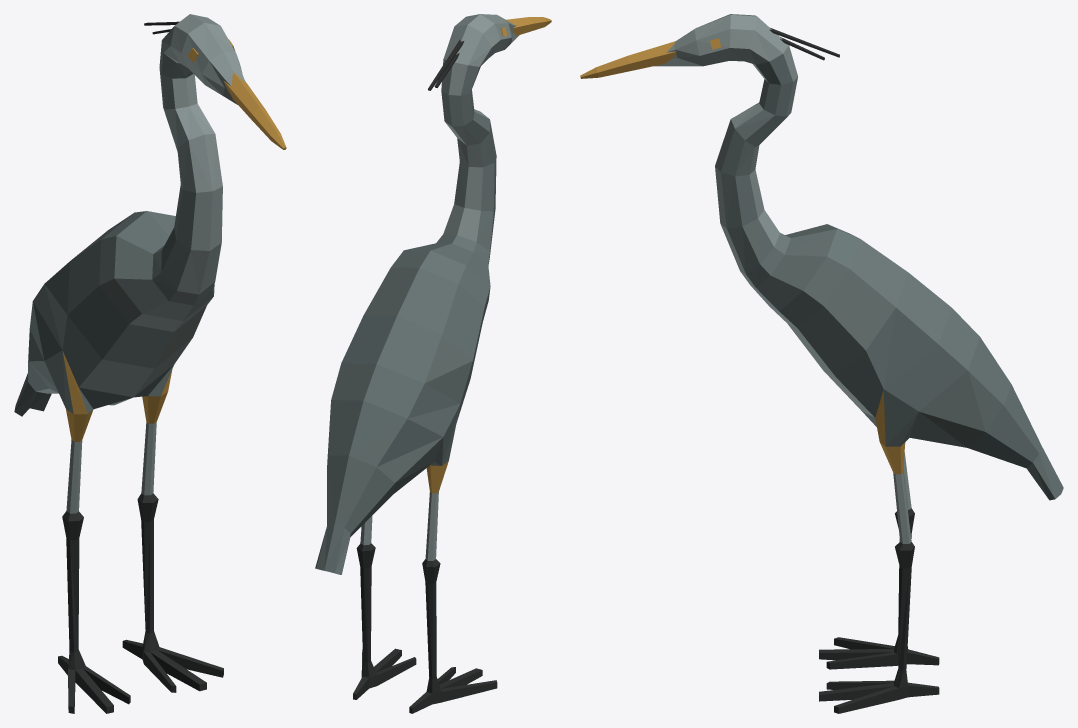
The model's file is heron.glb.
3 views of the same model, side by side, from view 1: azimuth 30°, elevation 25°; view 2: azimuth 150°, elevation 25°; view 3: azimuth 270°, elevation 25° (orthographic). The views are drawn at different scales.
Visible parts, largest first — view 1: heron; view 2: heron; view 3: heron.
Boxes of the visible parts, x1,y1,x2,y2 form: heron: (14, 14, 286, 713); heron: (315, 14, 551, 713); heron: (580, 14, 1063, 713).
Size of the model in its own units: 40.27 by 177 by 117.
